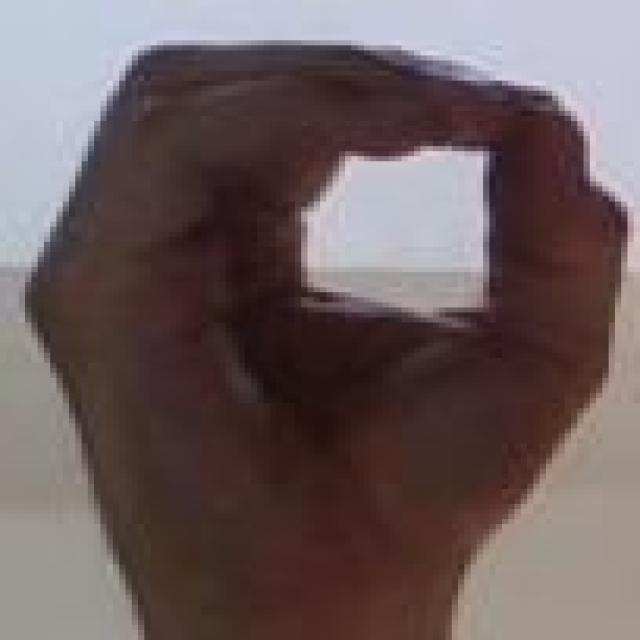O: (11, 29, 640, 594)
